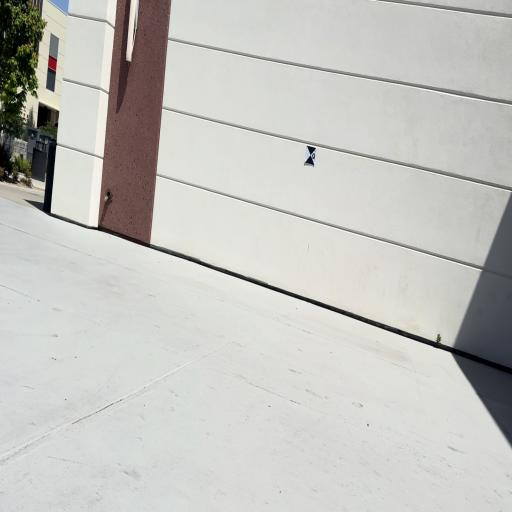target0: (304, 144, 317, 167)
